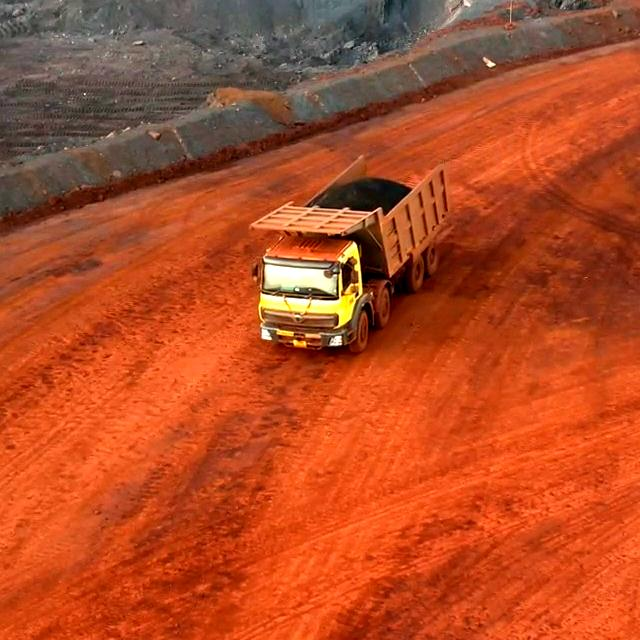Dumper truck: (259, 209, 384, 354)
